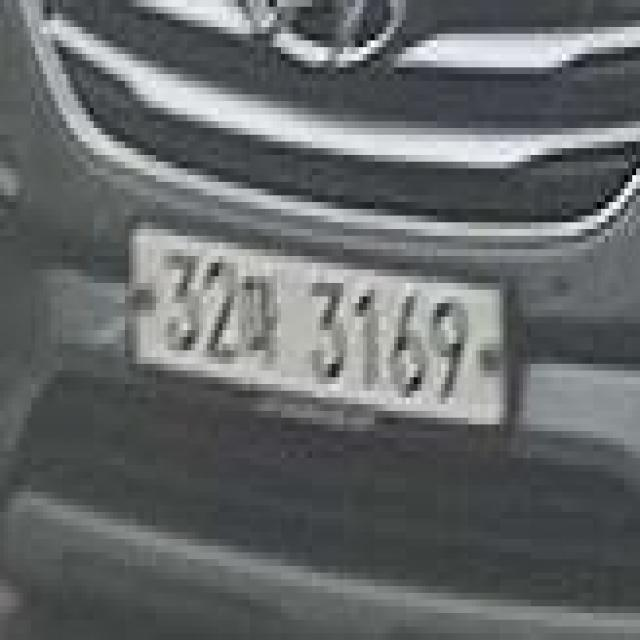1: (351, 283, 379, 397)
2: (199, 256, 238, 364)
3: (304, 276, 348, 391), (164, 249, 199, 357)
6: (390, 290, 426, 404)
9: (433, 296, 468, 404)
license_plate: (129, 222, 507, 431)
ma: (238, 270, 285, 370)
